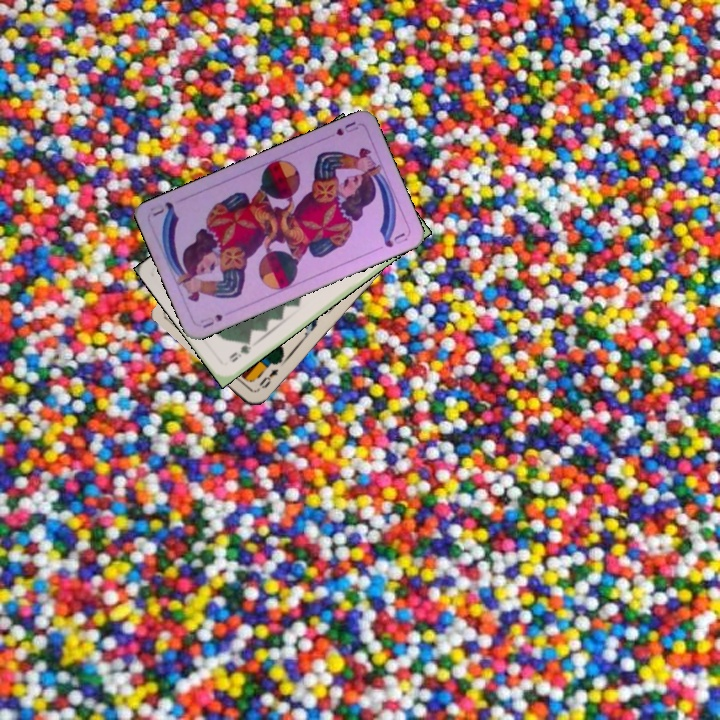EO: (255, 364, 281, 391)
G9: (225, 336, 255, 365)
SU: (197, 310, 225, 331), (332, 118, 361, 138)
